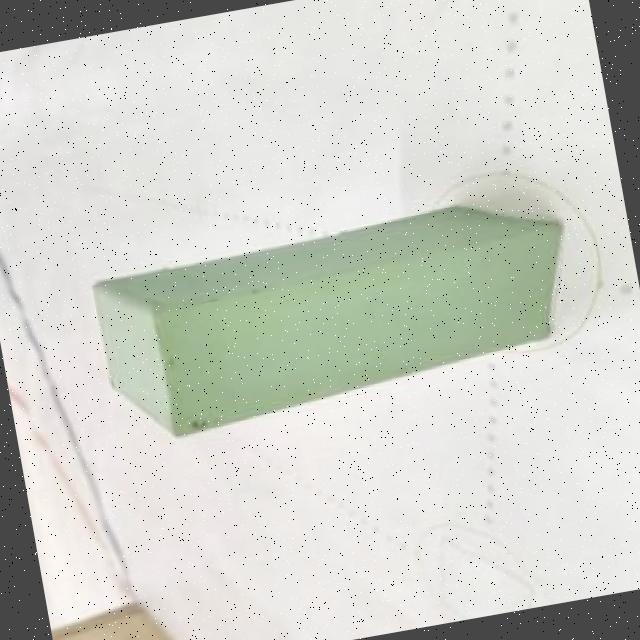greenbox: (82, 191, 587, 451)
